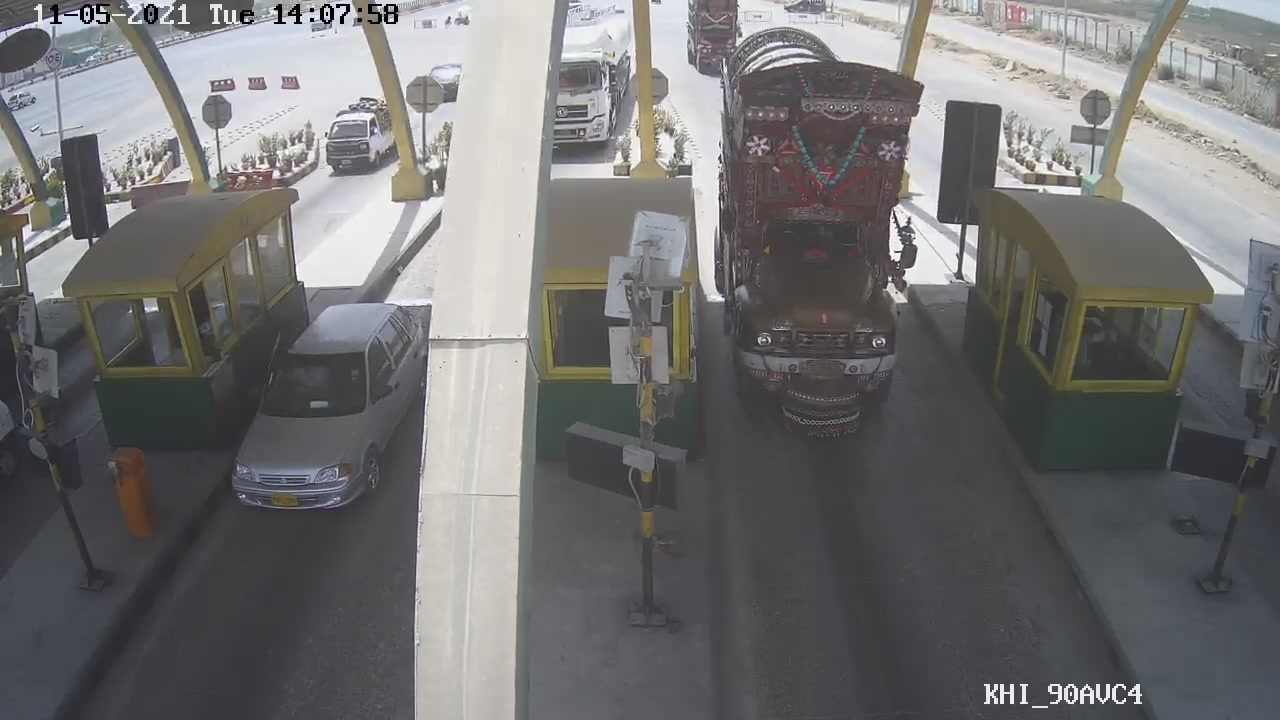F5: (707, 26, 927, 443)
